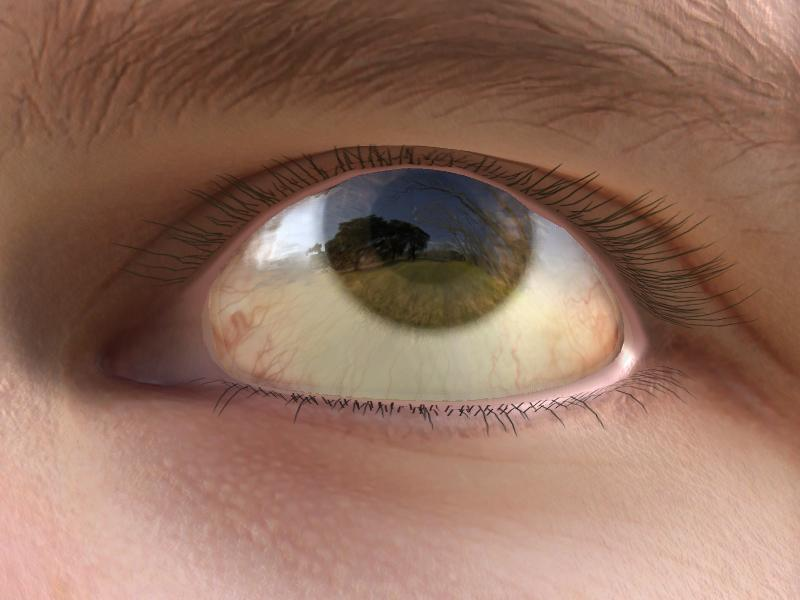eye: (324, 168, 537, 328)
